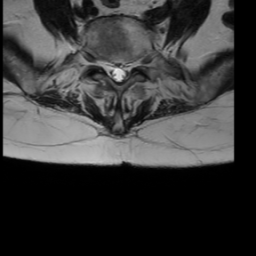CCS_normal: (114, 53, 122, 89)
LFS_normal: (130, 51, 139, 78)
LLS_normal: (122, 53, 130, 85)
RFS_normal: (96, 47, 105, 78)
RLS_normal: (105, 54, 114, 84)
